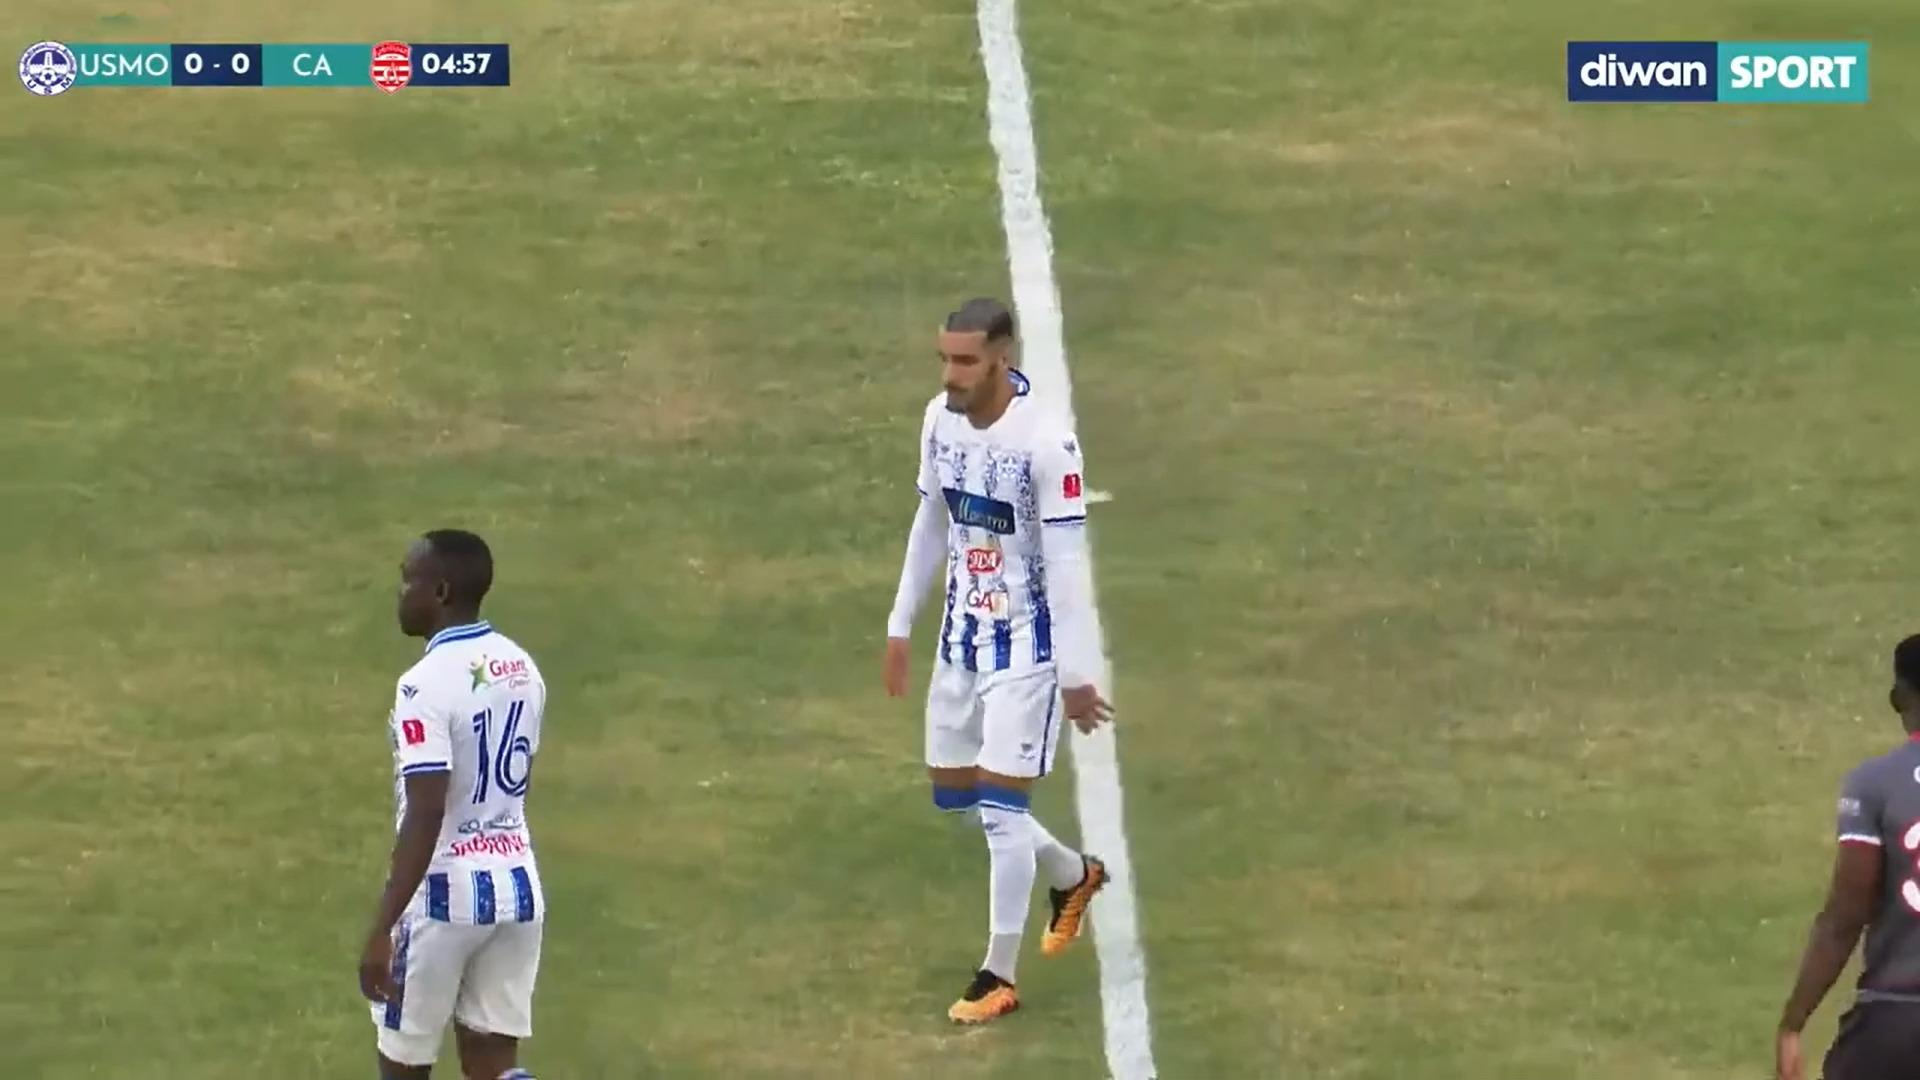ball: (856, 284, 1162, 1029), (326, 498, 608, 1075)
